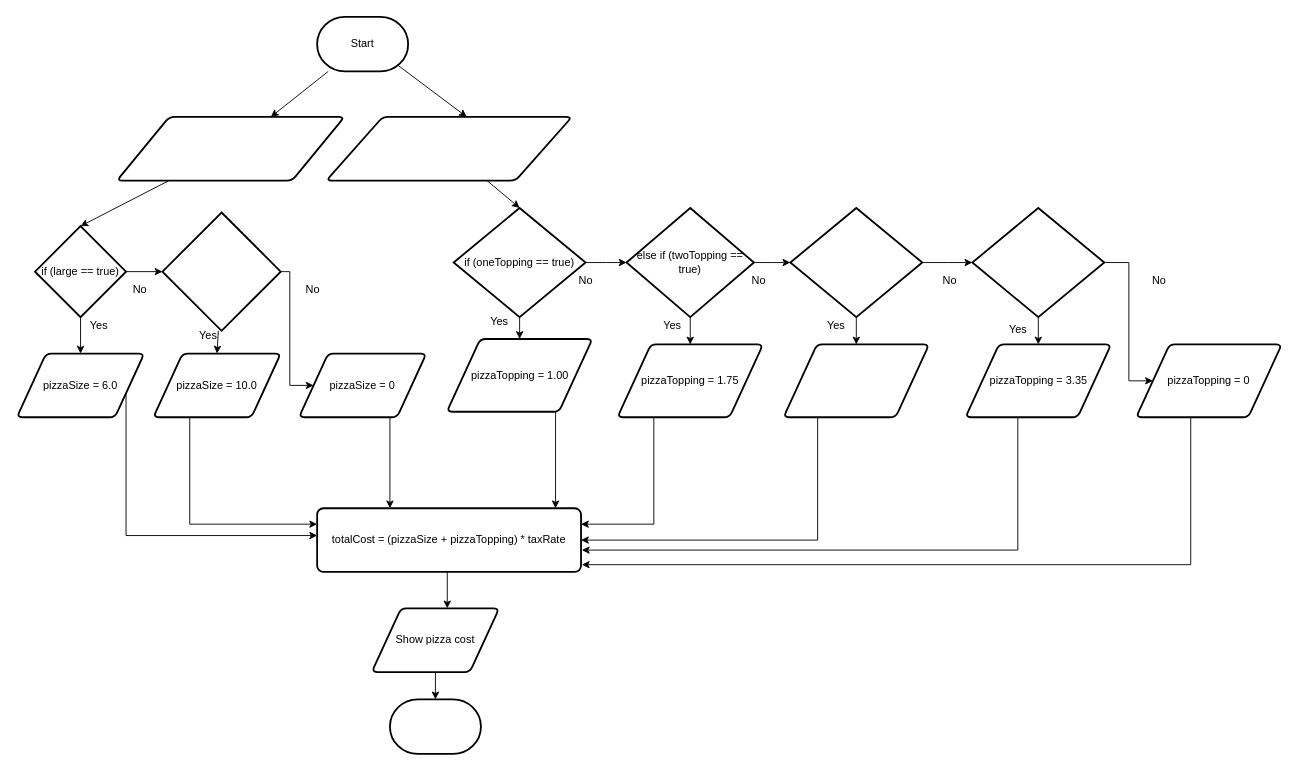
Image size: 1298x770. Some labels were removed from this diagram. The centre of each missing label's shape, as x and y in pixels:
"Check the radio box for # of toppings" belongs at (448,148).
"Check the radio box for pizza size" belongs at (230,148).
"else if (extraLarge == true)" belongs at (221,271).
"else if (fourTopping == true)" belongs at (1038,262).
"else if (threeTopping == true)" belongs at (856,262).
"pizzaTopping = 2.50" belongs at (856,380).
"Stop" belongs at (435,726).
